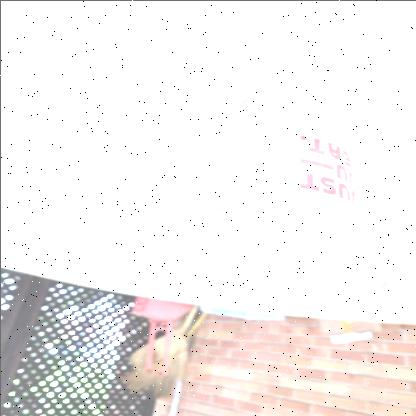Others: (151, 88, 395, 304)
